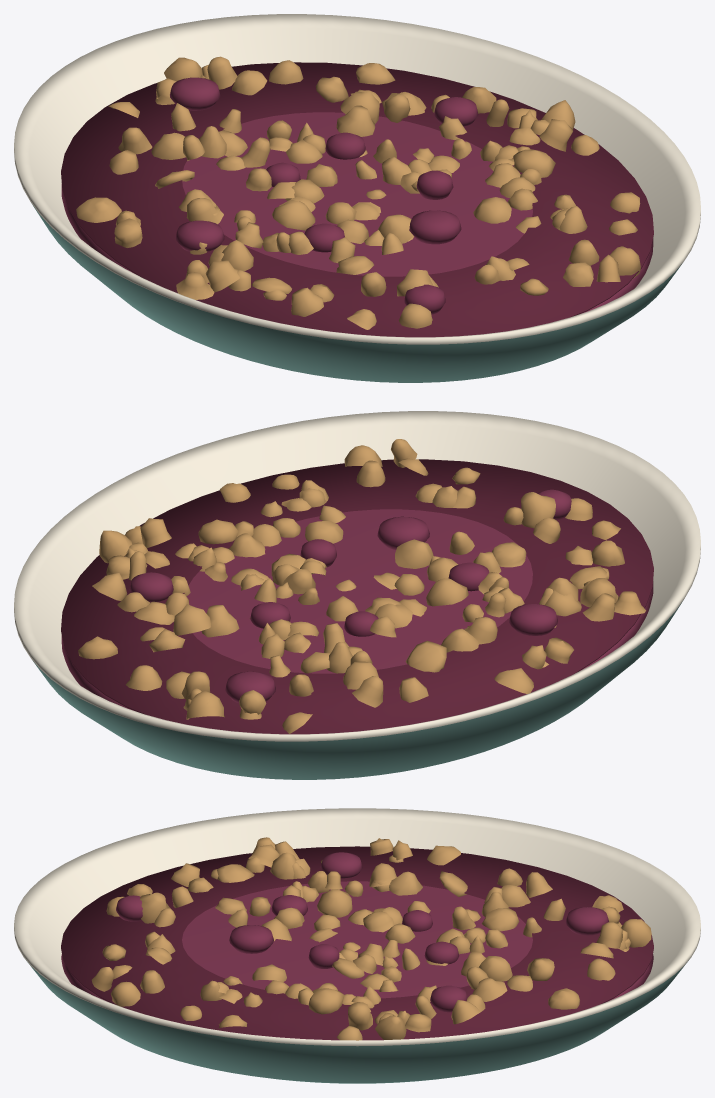
The model's file is meal_berry_crumble_serving.glb.
3 renders of one model, top to bottom at view 1: azimuth 30°, elevation 25°; view 2: azimuth 150°, elevation 25°; view 3: azimuth 270°, elevation 25°, orthographic. The views are drawn at different scales.
Visible parts, largest first — view 1: DishGeometry; view 2: DishGeometry; view 3: DishGeometry.
Part boxes in pixels (x1,y1,x2,y2): DishGeometry: (14, 14, 700, 382); DishGeometry: (14, 411, 700, 779); DishGeometry: (14, 808, 700, 1083).
Bounding box in the file's own units: 0.352 × 0.0567 × 0.44.
